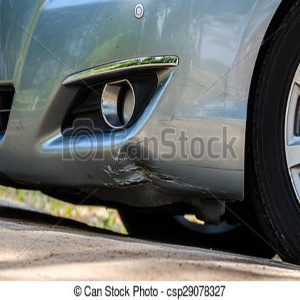bumper: (32, 163, 246, 214)
